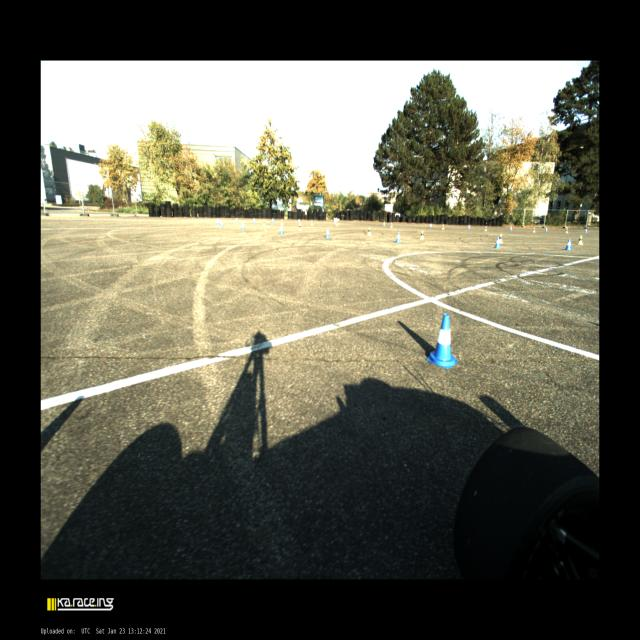blue_cone: (426, 314, 459, 368), (395, 232, 401, 243), (565, 240, 571, 250), (494, 238, 500, 248), (325, 227, 330, 238), (240, 221, 246, 230), (279, 225, 284, 234), (219, 220, 223, 228), (216, 219, 220, 225), (253, 217, 256, 223), (429, 223, 432, 228), (253, 218, 256, 223), (468, 224, 470, 230), (298, 218, 300, 224), (585, 228, 587, 233), (272, 218, 274, 223), (236, 218, 238, 223), (545, 228, 547, 232), (510, 227, 512, 231), (383, 222, 385, 226)
yellow_cone: (578, 236, 584, 244), (367, 227, 372, 236), (499, 234, 503, 244), (420, 230, 424, 240), (266, 220, 270, 228), (299, 223, 302, 231), (310, 220, 314, 226), (280, 219, 284, 225), (390, 221, 393, 228), (262, 220, 266, 225), (484, 226, 487, 231), (566, 228, 568, 234), (533, 228, 536, 232), (442, 224, 444, 230), (336, 220, 338, 226)
